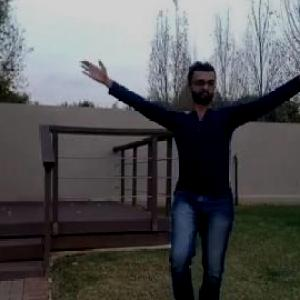takeoff: (75, 55, 300, 299)
